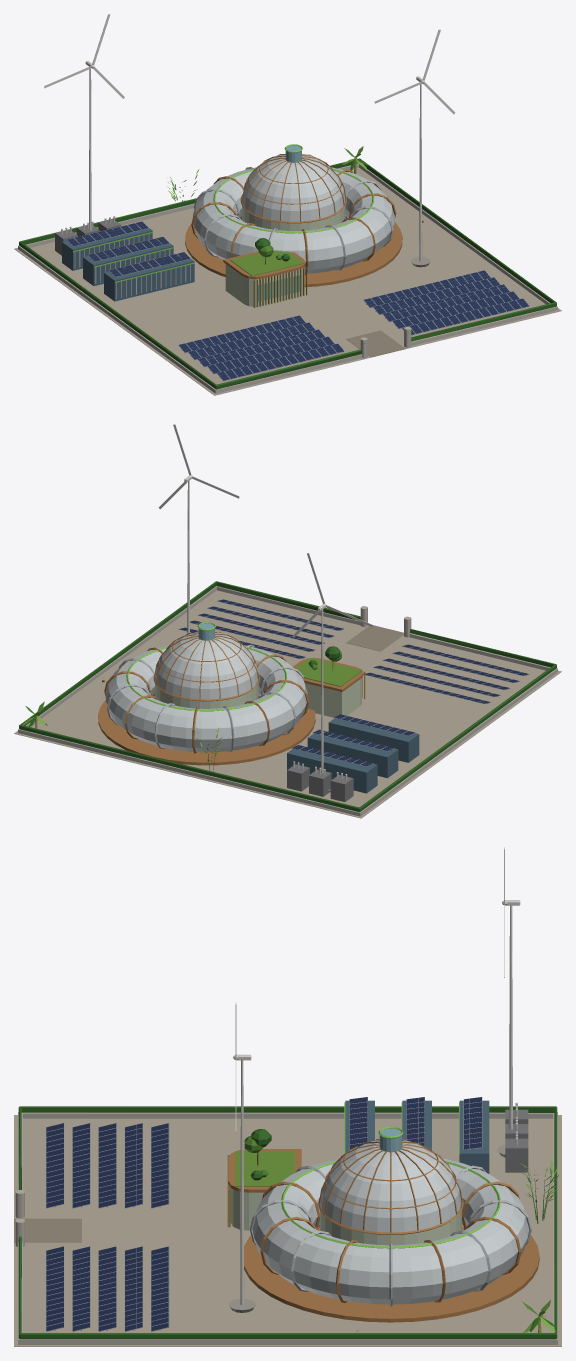
Rendered from power_plant.glb.
3 renders of one model, top to bottom at view 1: azimuth 30°, elevation 25°; view 2: azimuth 150°, elevation 25°; view 3: azimuth 270°, elevation 25°, orthographic. The views are drawn at different scales.
Visible parts, largest first — view 1: body, windows; view 2: body, windows; view 3: body, windows.
Part boxes in pixels (left/top/right/bottom): body: left=14, top=14, right=561, bottom=395; windows: left=73, top=144, right=411, bottom=343; body: left=14, top=424, right=561, bottom=818; windows: left=126, top=622, right=419, bottom=751; body: left=14, top=847, right=561, bottom=1346; windows: left=15, top=1102, right=500, bottom=1248.
Size of the model in its own units: 47.9 by 30.79 by 47.9.
